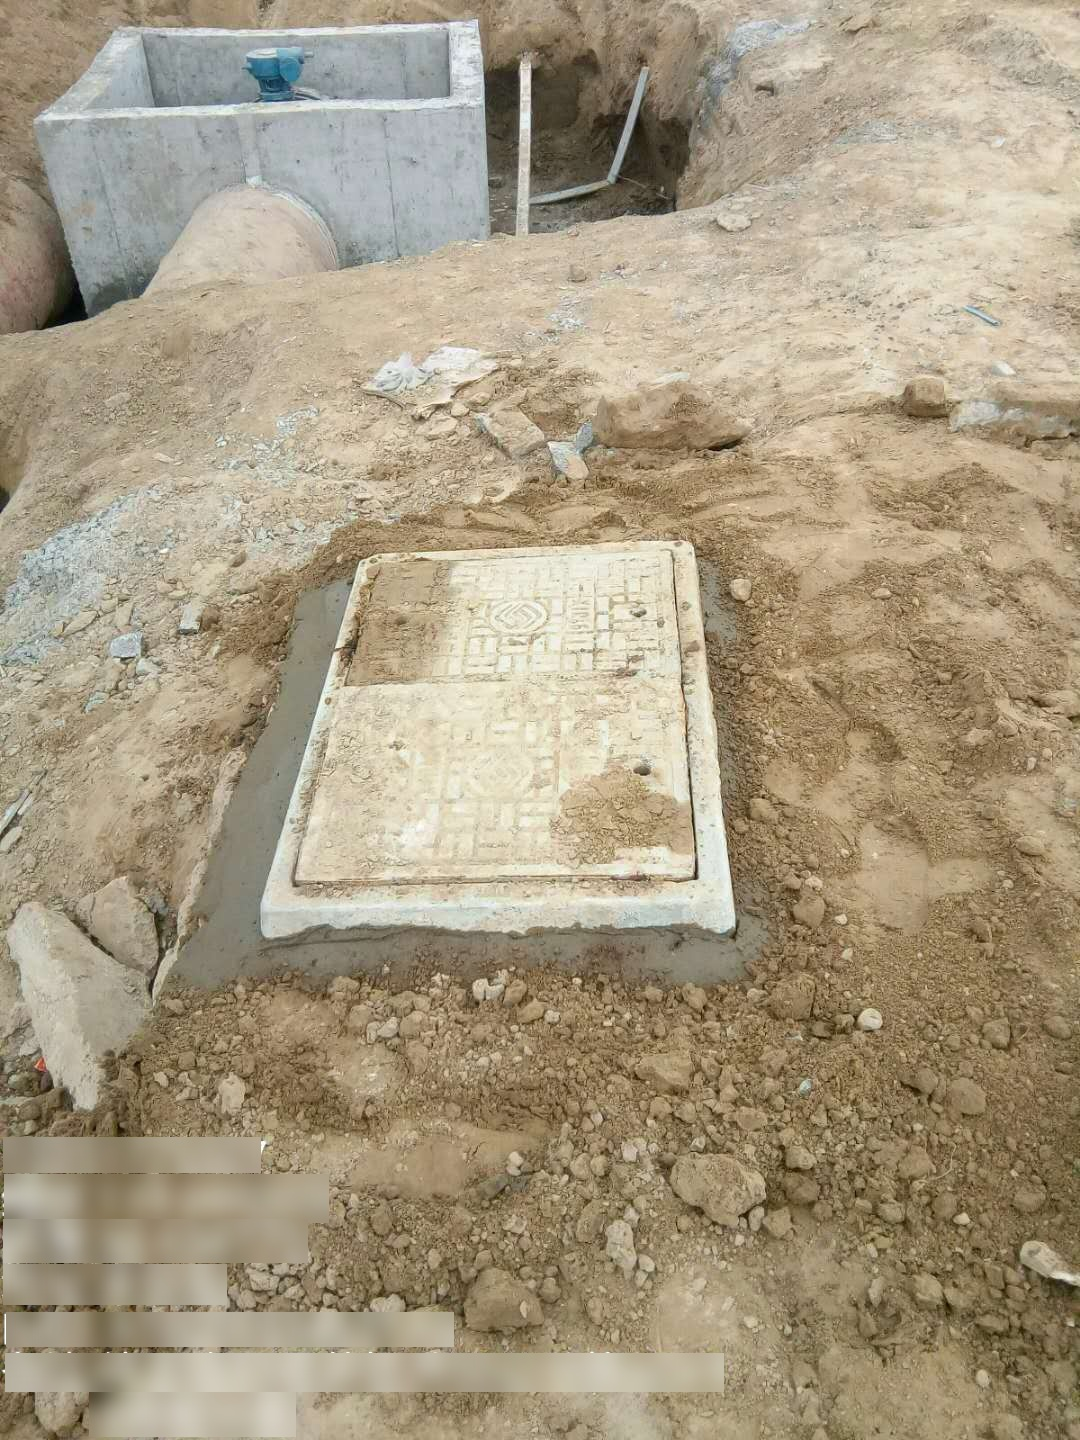good: (258, 541, 740, 933)
